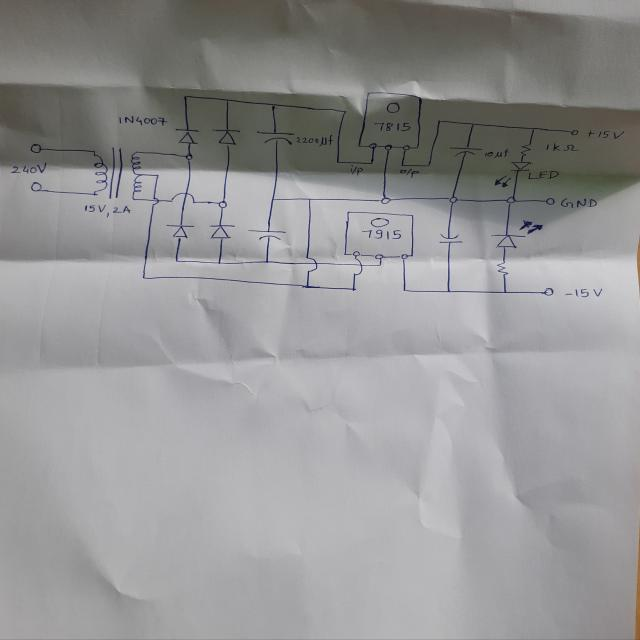capacitor: (255, 128, 295, 146), (247, 227, 288, 242), (446, 146, 485, 158), (436, 232, 464, 246)
crossover: (172, 192, 194, 205), (303, 258, 318, 272), (352, 258, 363, 276), (149, 197, 161, 205)
diode: (484, 218, 545, 250), (491, 158, 534, 190), (210, 126, 242, 147), (165, 221, 196, 239), (207, 221, 236, 240), (174, 126, 200, 145)
junction: (216, 199, 229, 210), (378, 195, 392, 205), (183, 152, 194, 160), (505, 196, 516, 204), (448, 196, 459, 204), (302, 283, 311, 290), (263, 258, 271, 265), (140, 274, 148, 281), (215, 260, 224, 266), (269, 103, 277, 109), (306, 196, 314, 202), (269, 196, 277, 202), (173, 258, 181, 264), (350, 286, 357, 292), (182, 94, 189, 100), (401, 287, 408, 293), (368, 160, 375, 166), (530, 126, 537, 132), (334, 159, 341, 165), (341, 109, 348, 115), (445, 288, 452, 293), (469, 122, 476, 127), (223, 98, 230, 103), (425, 163, 432, 168), (376, 262, 383, 267), (436, 119, 442, 124), (154, 173, 160, 178), (399, 162, 405, 167), (502, 290, 508, 294)
resistor: (496, 260, 510, 277), (518, 142, 532, 159)
terminal: (29, 181, 44, 192), (29, 143, 43, 154), (542, 286, 555, 296), (544, 197, 556, 206), (569, 129, 579, 136)
text: (82, 203, 131, 217), (116, 114, 168, 127), (9, 160, 48, 176), (558, 196, 598, 209), (295, 134, 334, 147), (372, 120, 411, 133), (587, 128, 626, 140), (564, 287, 604, 298), (361, 229, 404, 239), (544, 142, 580, 153), (482, 148, 511, 160), (527, 170, 559, 180), (398, 168, 421, 179), (348, 164, 365, 177)
transformer: (89, 146, 145, 200)
